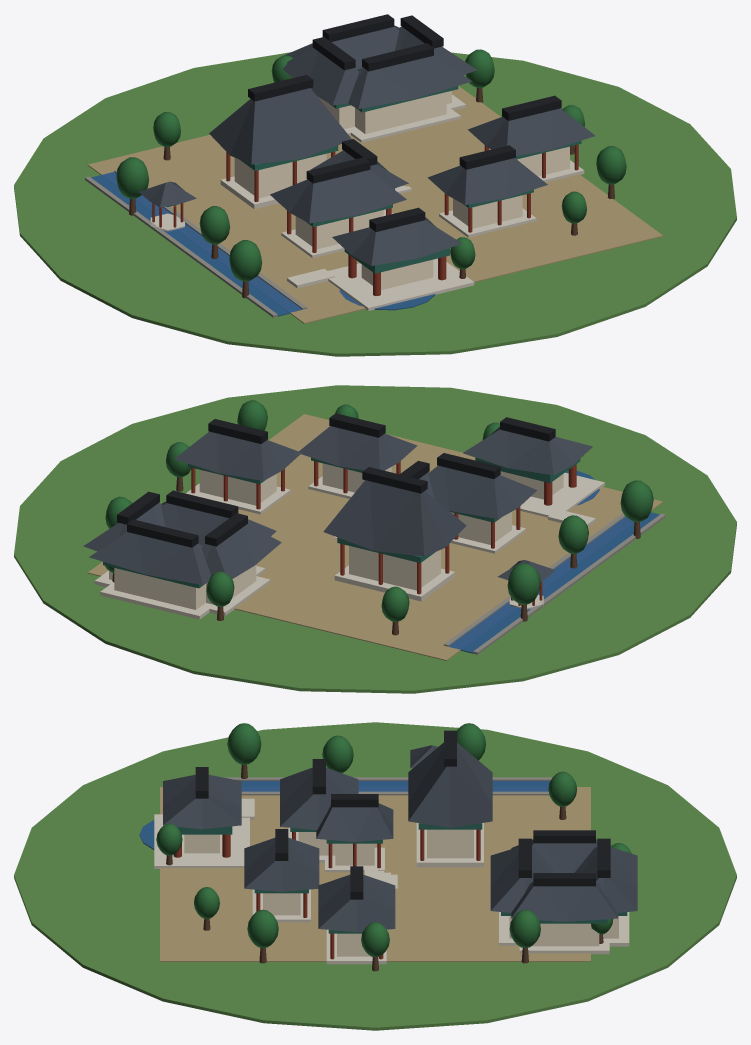
Rendered from namsangol-hanok.glb.
The picture shows the model from 3 angles, top to bottom: view 1: azimuth 30°, elevation 25°; view 2: azimuth 150°, elevation 25°; view 3: azimuth 270°, elevation 25°; orthographic projection.
Bounding box in the file's own units: 77.2 × 12.42 × 77.2.
